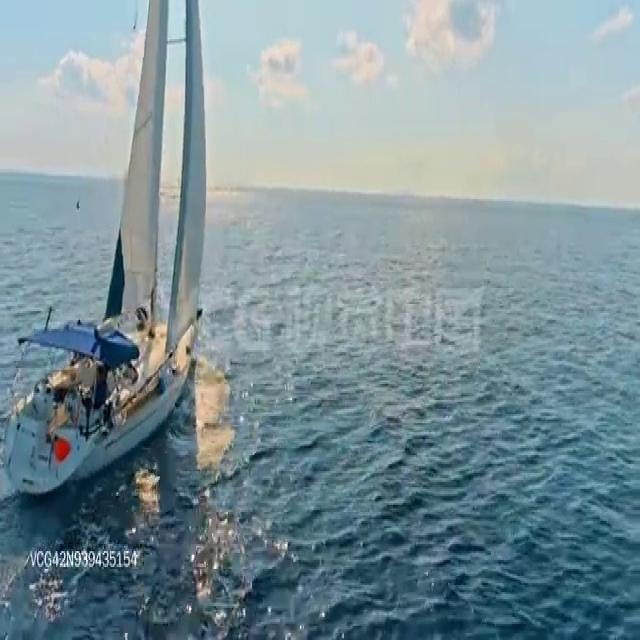sailboat: (0, 0, 217, 510)
